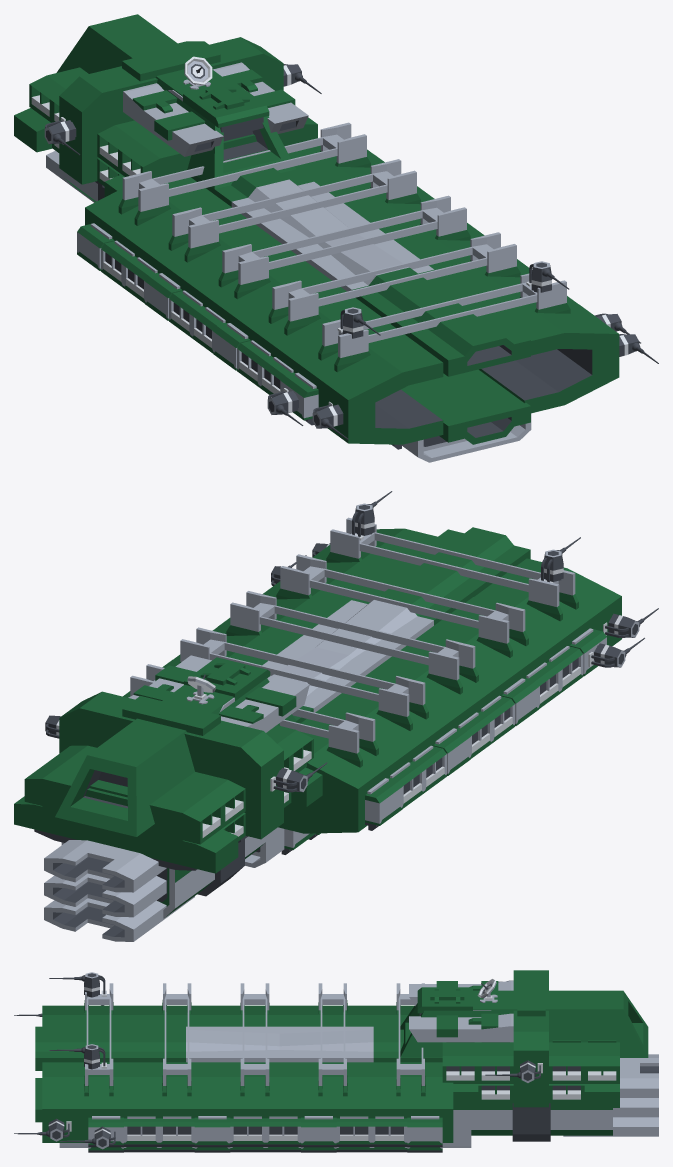
The model's file is croiseur_lourd_4.glb.
The picture shows the model from 3 angles, top to bottom: view 1: azimuth 30°, elevation 25°; view 2: azimuth 150°, elevation 25°; view 3: azimuth 270°, elevation 25°; orthographic projection. The views are drawn at different scales.
Visible parts, largest first — view 1: mergedBlocks(Clone); view 2: mergedBlocks(Clone); view 3: mergedBlocks(Clone).
Part boxes in pixels (<box>): mergedBlocks(Clone): <box>14,14,658,462</box>; mergedBlocks(Clone): <box>14,491,658,941</box>; mergedBlocks(Clone): <box>14,970,658,1152</box>.
Bounding box in the file's own units: 8.8 × 4.76 × 18.2.
Materials: 1 (1 with a texture image).
